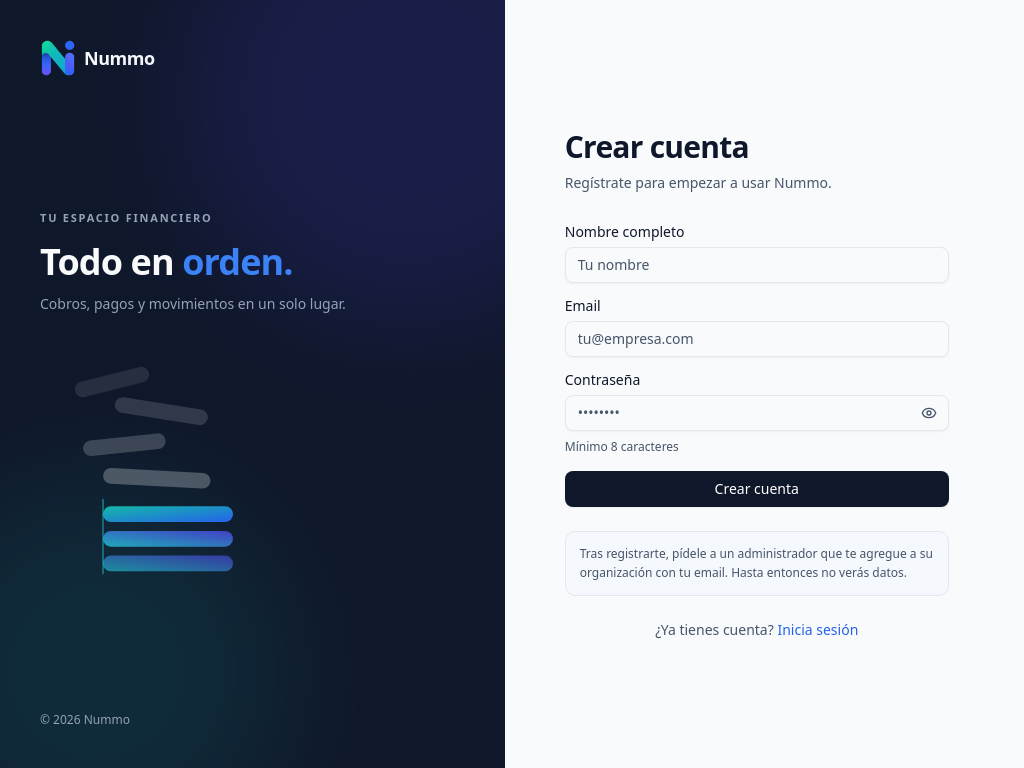
valida los campos requeridos (incluida contraseña mínima)
This screenshot has width=1024, height=768.
Click the button "Crear cuenta" at (757, 488), box [565,470,949,506]
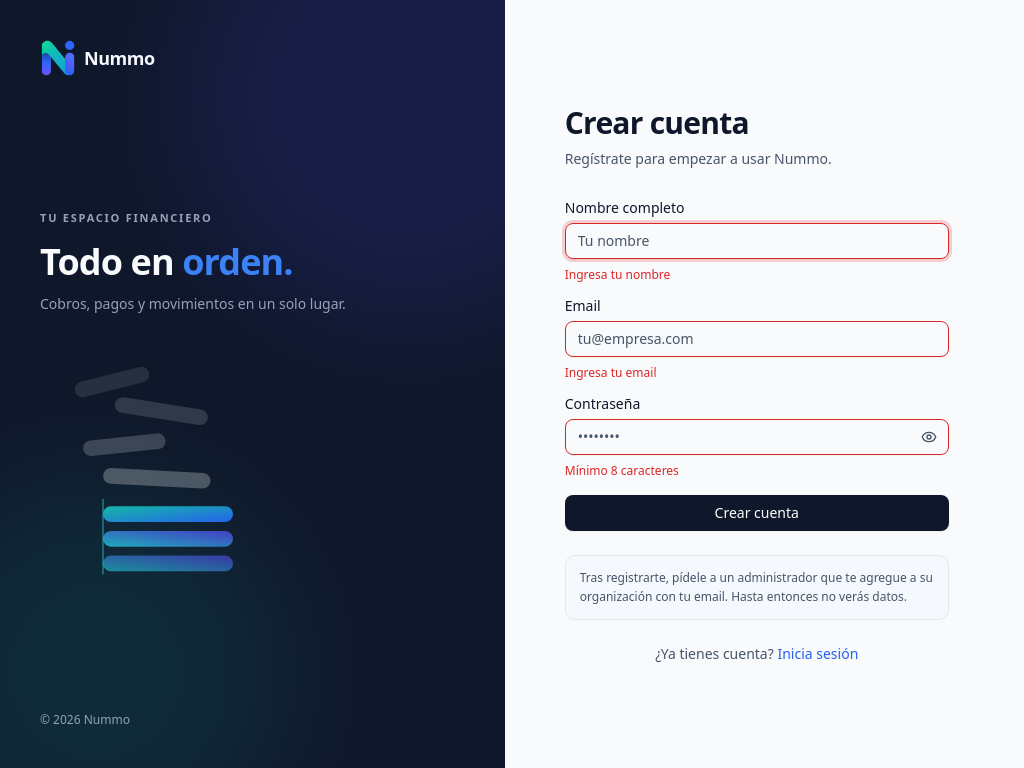
Check: the text "Mínimo 8 caracteres" is shown, box [565,462,679,478]
Check: the text "Ingresa tu nombre" is shown, box [565,266,670,282]
Check: the text "Ingresa tu email" is shown, box [565,364,656,380]
